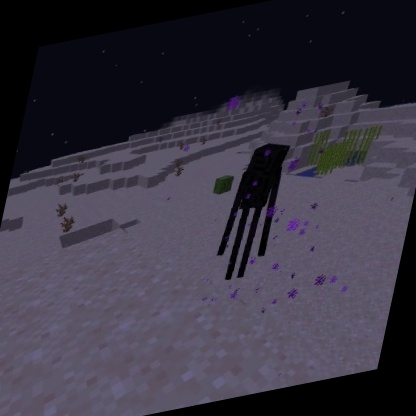enderman: (206, 135, 296, 287)
